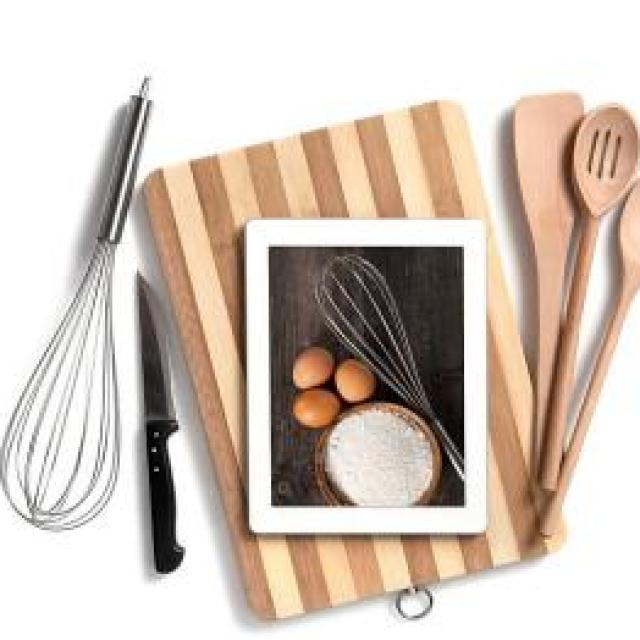knife: (124, 276, 190, 575)
